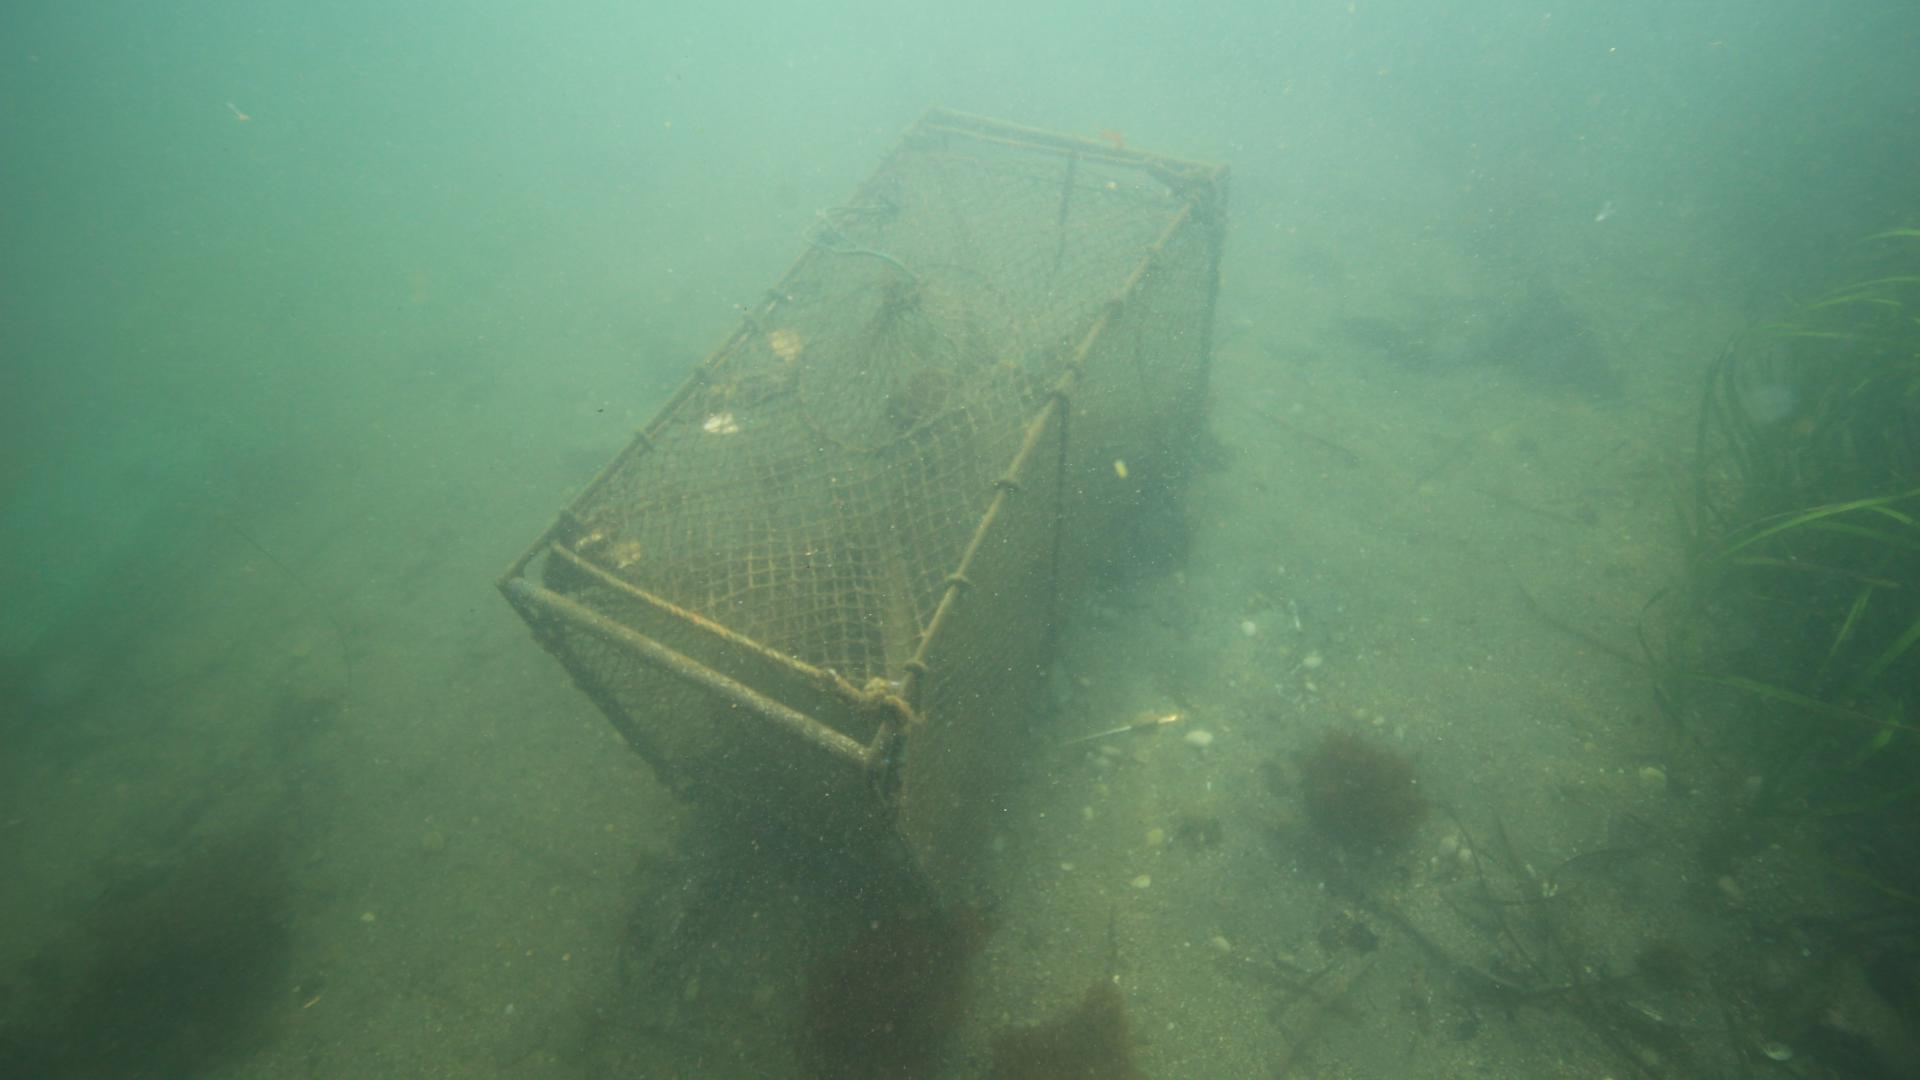rectangular fish trap: (493, 100, 1232, 922)
